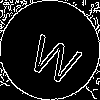W: (25, 25, 88, 87)
